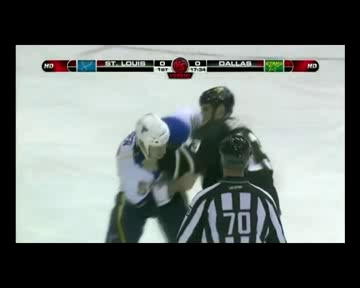normal: (98, 81, 288, 242)
